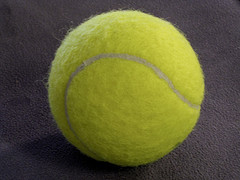tennis ball: (48, 5, 206, 169)
